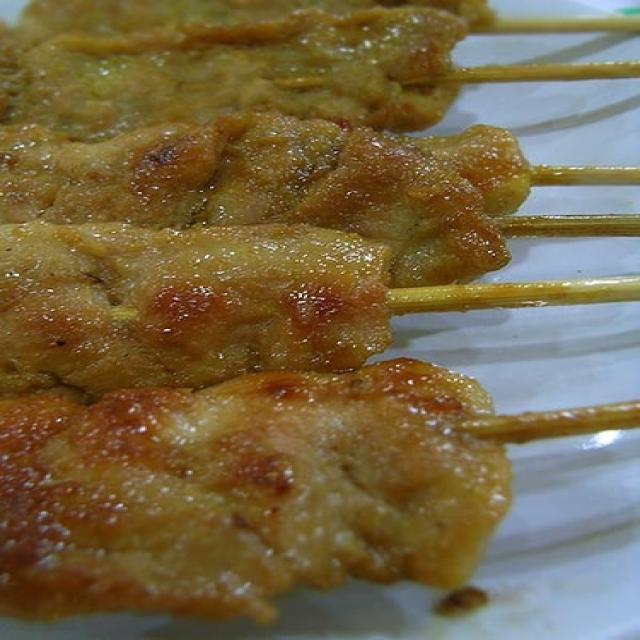牛肉菜式: (15, 10, 601, 616)
